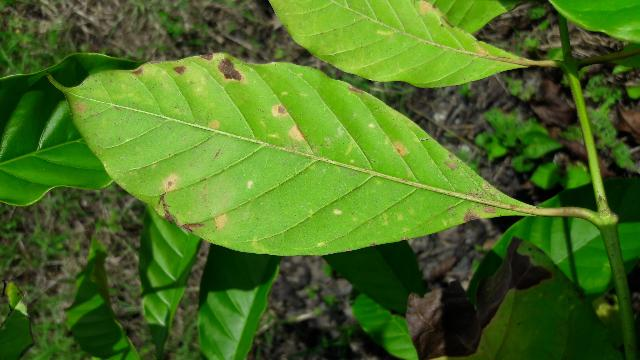rust_level_3: (84, 64, 520, 250)
